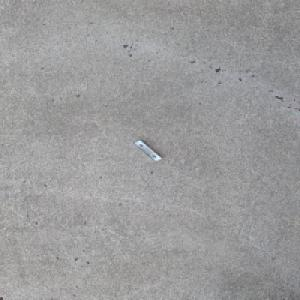ClampPart: (131, 140, 163, 162)
